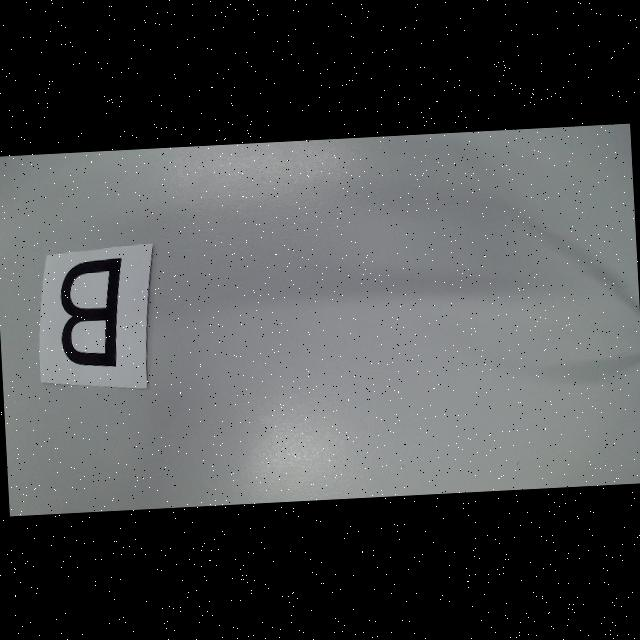FAKE: (58, 257, 128, 369)
